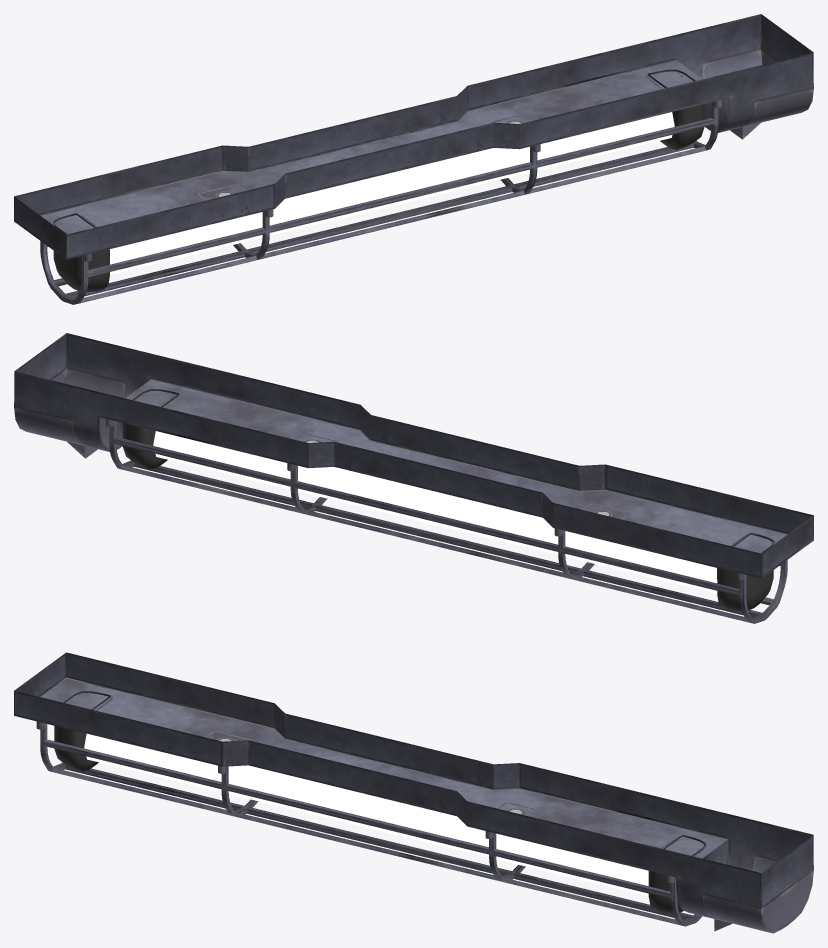
The picture shows the model from 3 angles, top to bottom: view 1: azimuth 30°, elevation 25°; view 2: azimuth 150°, elevation 25°; view 3: azimuth 330°, elevation 25°; orthographic projection.
Parts seen in each view (by area): view 1: light_b; view 2: light_b; view 3: light_b.
Part boxes in pixels (x1,y1,x2,y2): light_b: (14, 14, 813, 304); light_b: (14, 333, 813, 623); light_b: (14, 652, 813, 933).
Bounding box in the file's own units: 1.65 × 0.1907 × 0.2027.
1 material, 1 textured.
